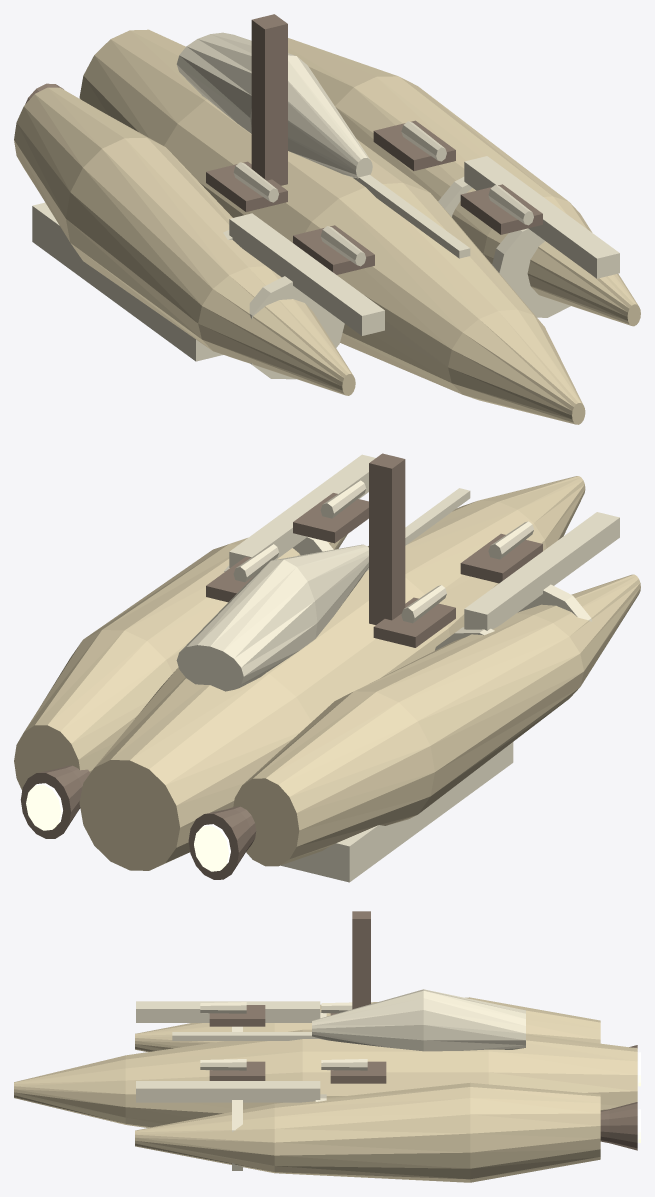
The picture shows the model from 3 angles, top to bottom: view 1: azimuth 30°, elevation 25°; view 2: azimuth 150°, elevation 25°; view 3: azimuth 270°, elevation 25°; orthographic projection. The views are drawn at different scales.
Size of the model in its own units: 8.06 by 5.99 by 16.31.
